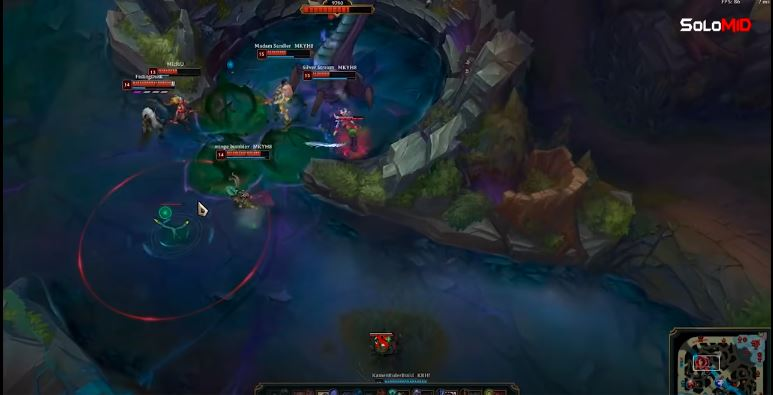bar: (121, 78, 181, 93)
w: (147, 64, 204, 81), (302, 67, 361, 82), (254, 45, 312, 60), (214, 147, 272, 162)
